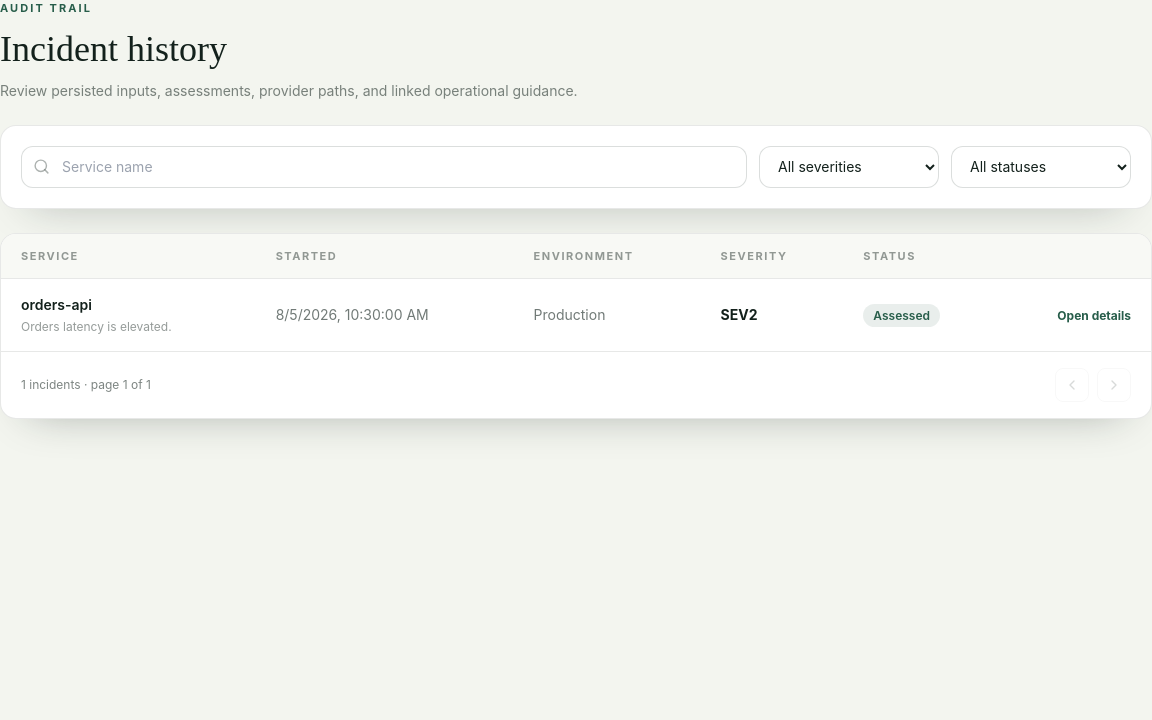
Scenario: opens an incident detail modal and exposes provider and cache state
Click the button "Open details": click(1094, 316) [1057,308,1131,324]
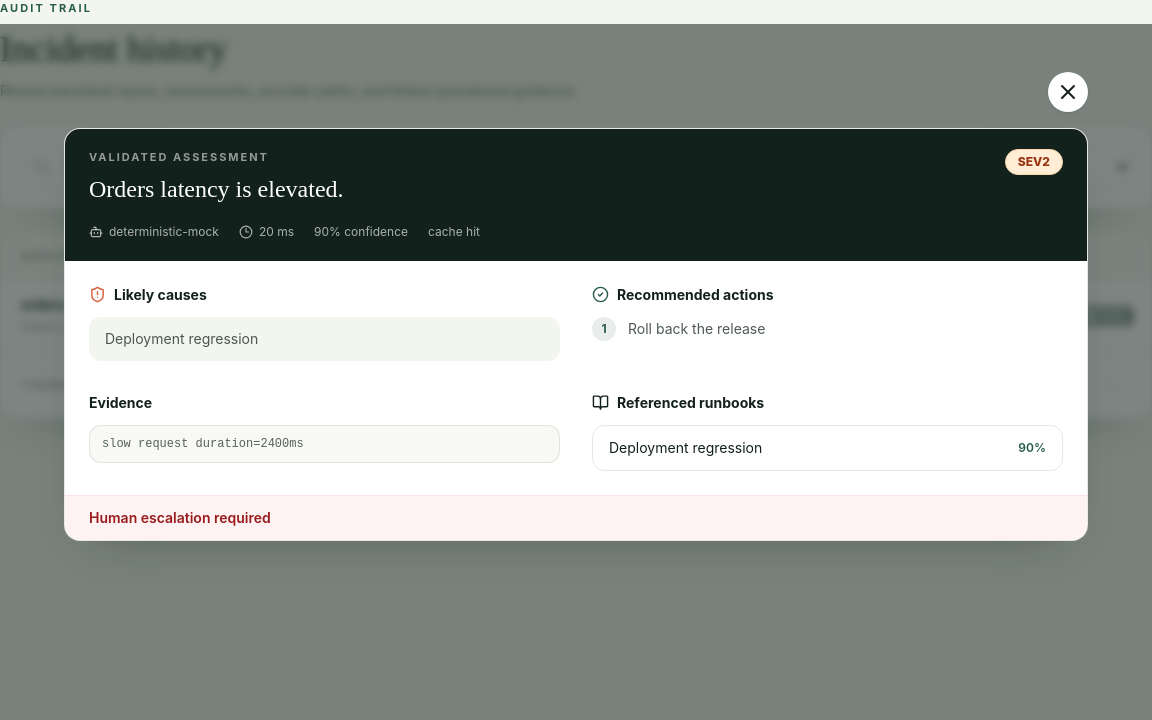
Expected: the dialog shows "deterministic-mock", [109,224,219,238]
Expected: the dialog shows "cache hit", [428,224,480,238]
Expected: the dialog shows "Human escalation required", [89,508,271,526]
